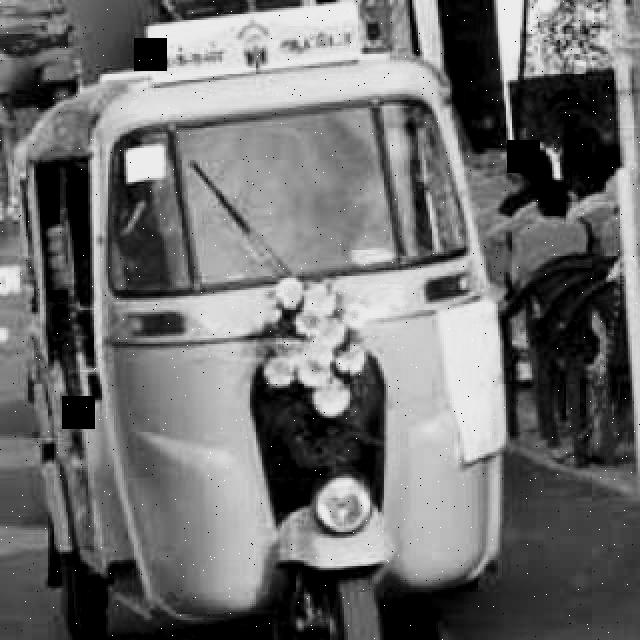Auto-Rickshaw: (24, 52, 510, 640)
